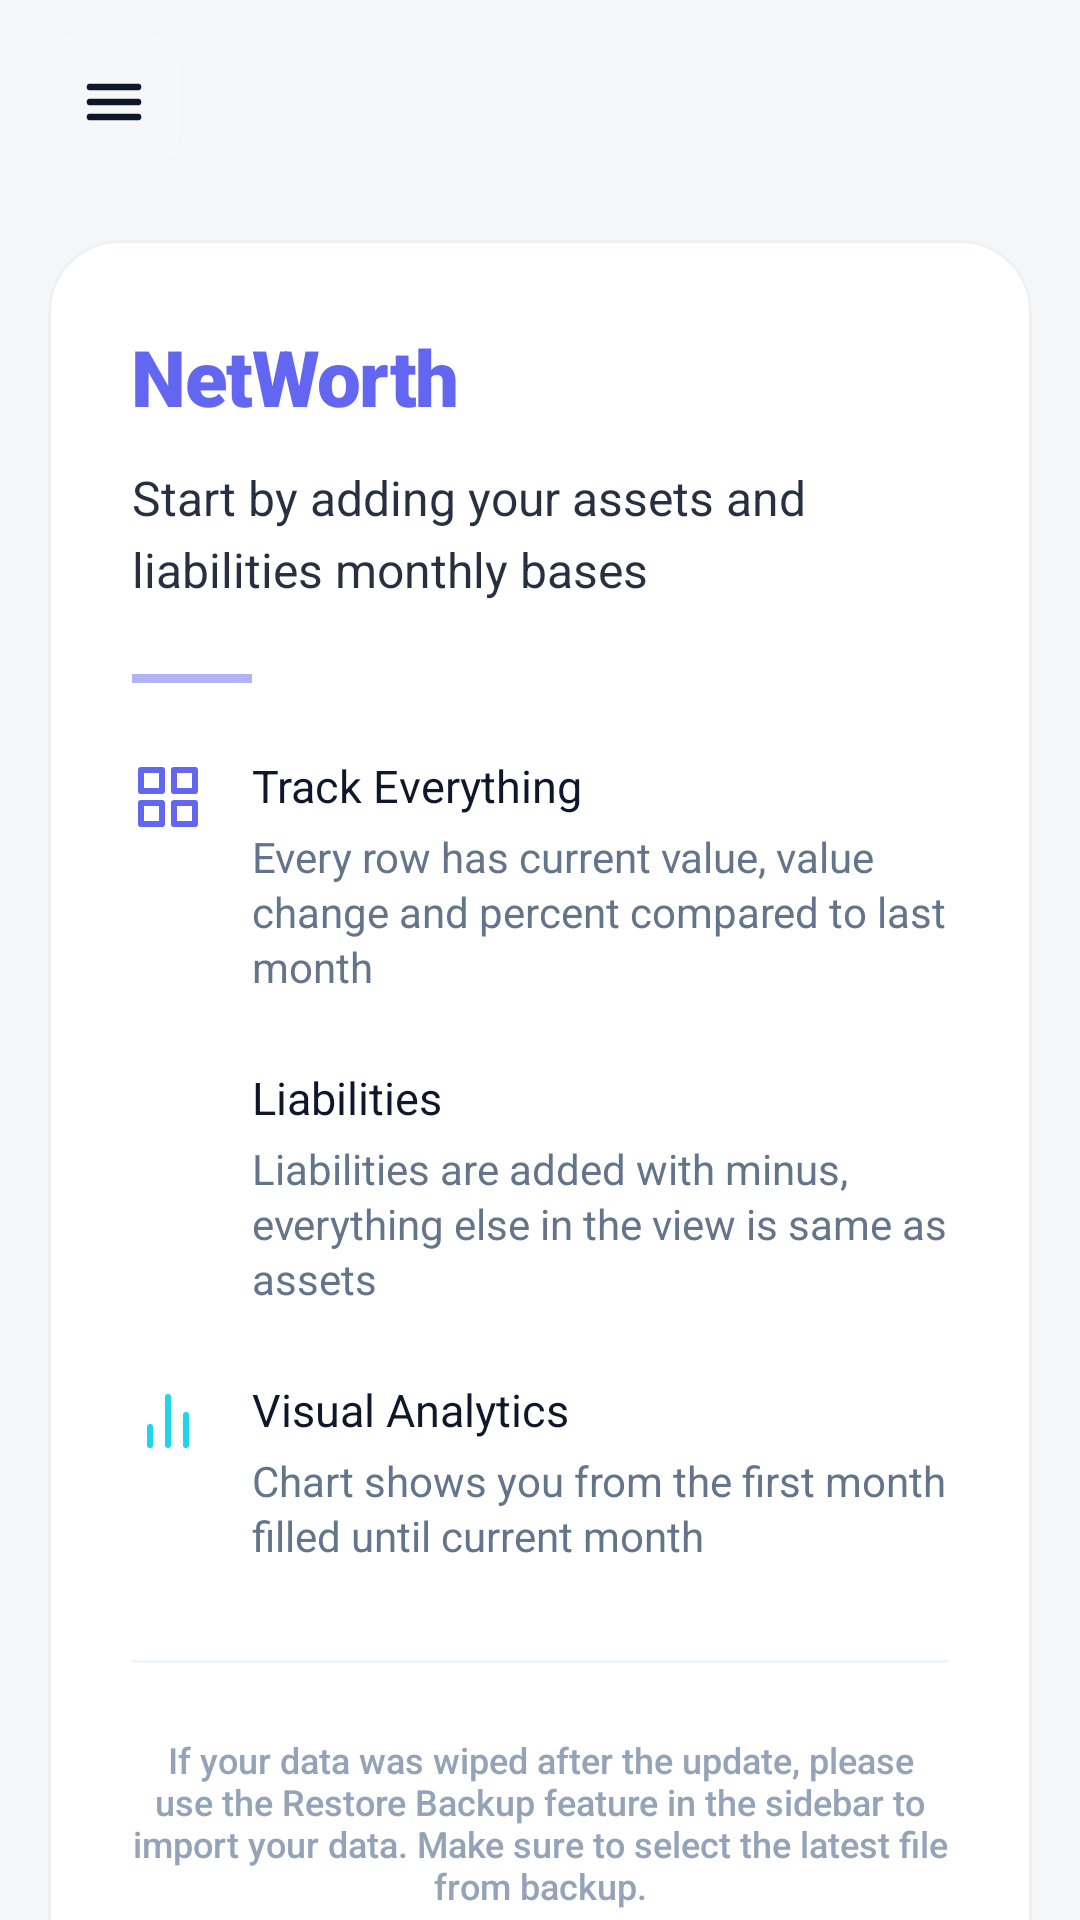

Icon bounding boxes for this 1080*1920 phone screenshot, format bbox(x1, y1, x2, y2):
Menu: bbox(86, 83, 142, 121)
overview: bbox(138, 767, 198, 827)
